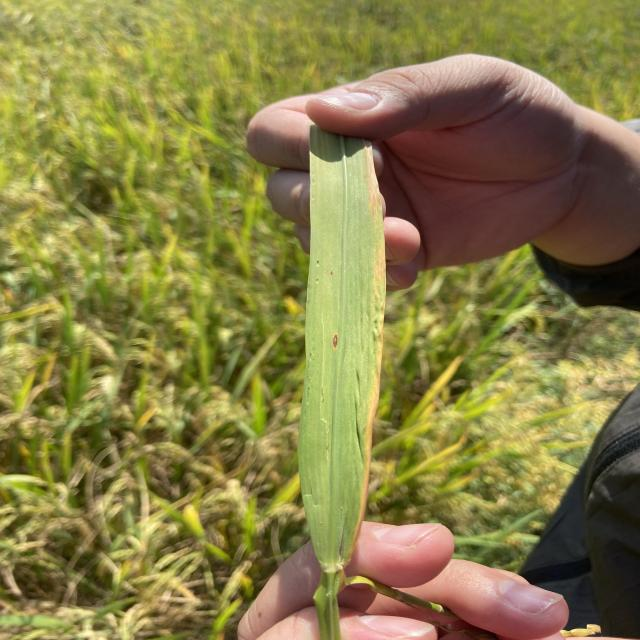Dom nau: (333, 335, 338, 348), (331, 272, 333, 275)
